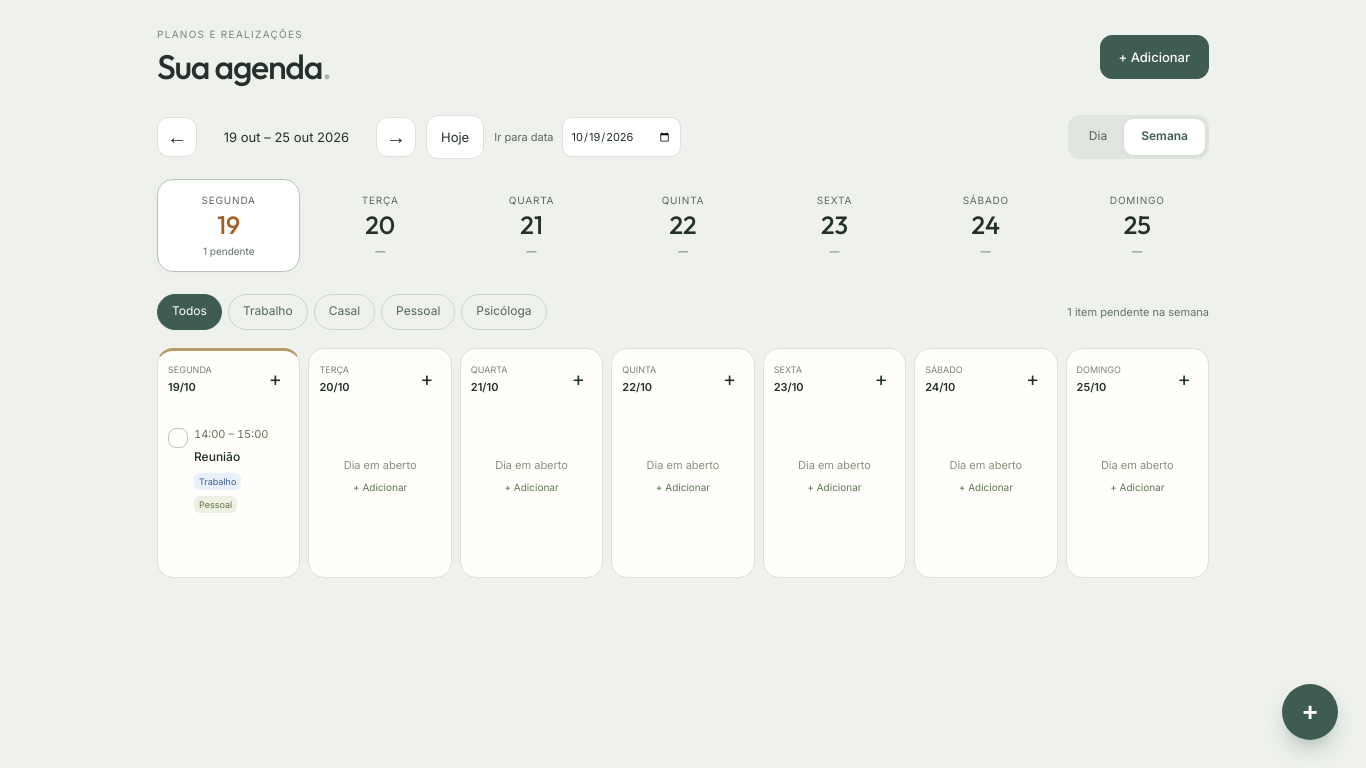
Test: não marca como concluído quando a gravação falha
The image size is (1366, 768).
Click the button named "Concluir: Reunião": (178, 438) x1=168 y1=428 x2=188 y2=448
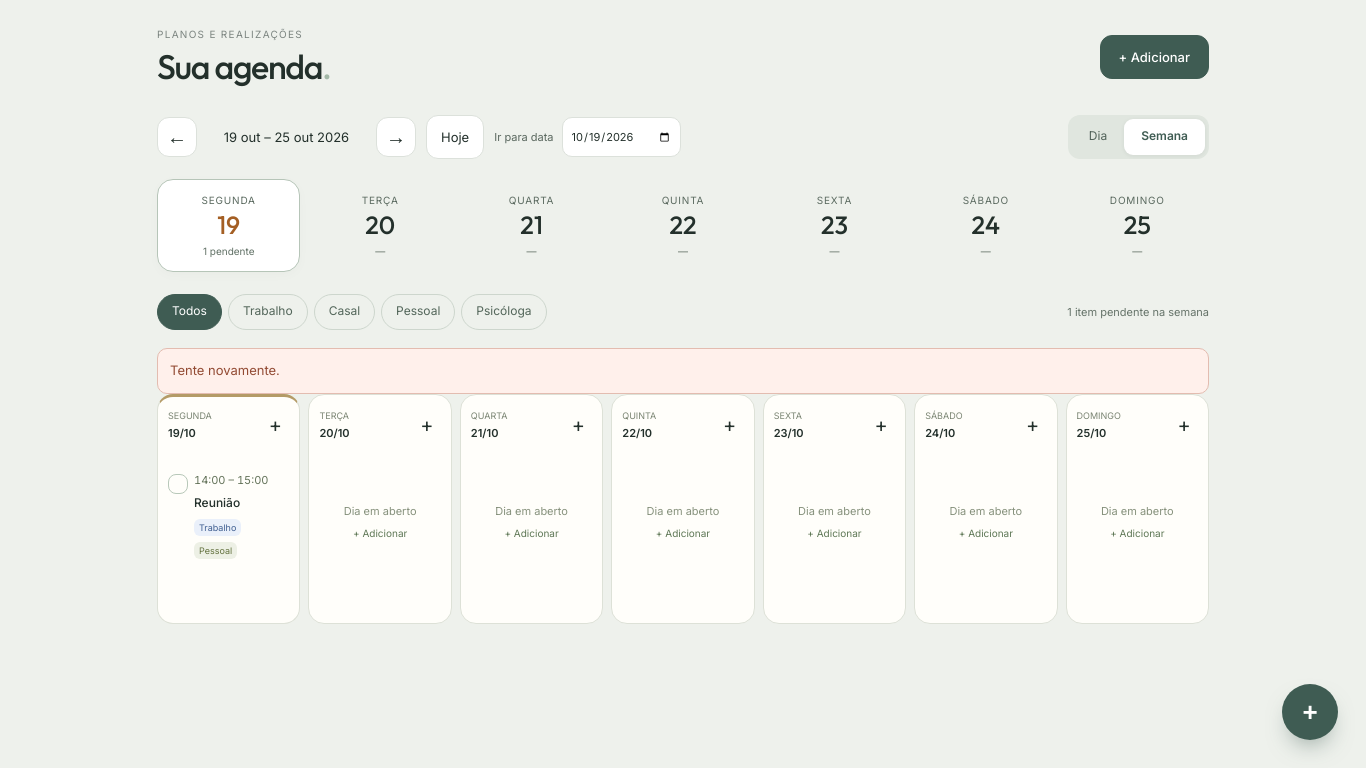
Expected: the message reads "Tente novamente.", x1=170 y1=362 x2=280 y2=378
